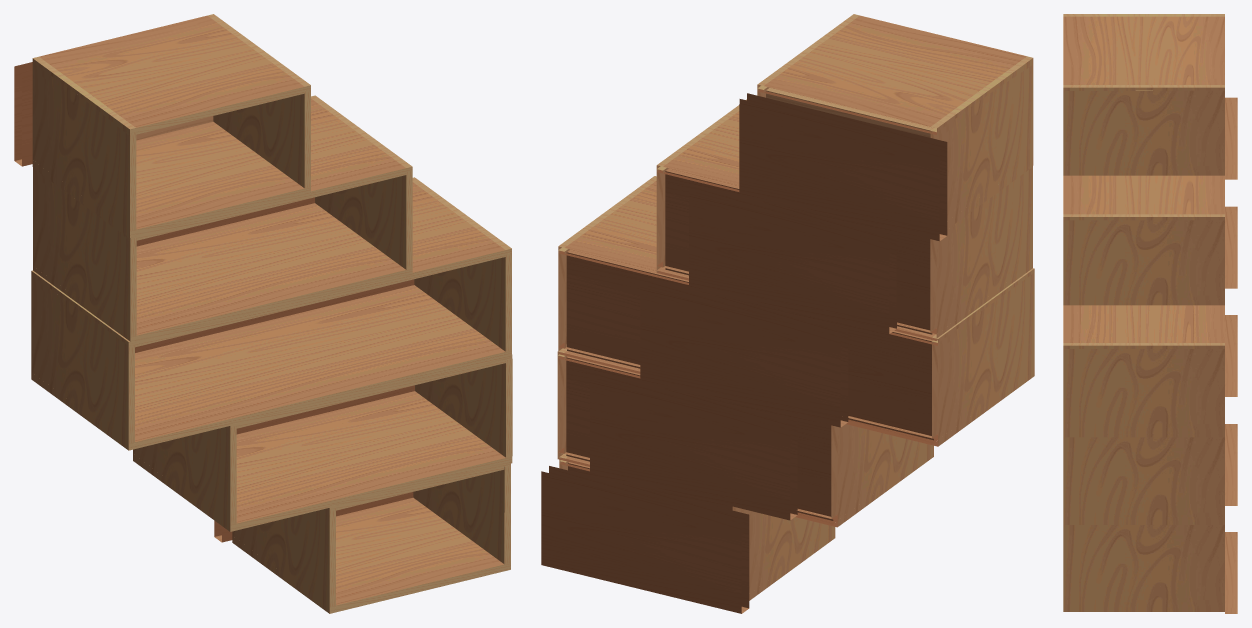
The model's file is layout_wide_5s_zip.fbx.
The picture shows the model from 3 angles, left to right: view 1: azimuth 30°, elevation 25°; view 2: azimuth 150°, elevation 25°; view 3: azimuth 270°, elevation 25°; orthographic projection. The views are drawn at different scales.
Parts seen in each view (by area): view 1: Shelf-BM-00 2, Shelf-BM-00 1, Shelf-BM-00 3, Shelf-TM-00 4, Shelf-BM-00, Shelf-BM-00 4, Shelf-CL-01 4, Shelf-CL-01 2, Shelf-CL-01 3, Shelf-TM-00 2, Shelf-TM-00 3, Shelf-CL-01 1 (+20 smaller); view 2: Shelf-Back-00 (1), Shelf-Back-00 (1) 2, Shelf-Back-00 (1) 4, Shelf-Back-00 (1) 1, Shelf-Back-00 (1) 3, Shelf-Back-00 2, Shelf-TM-00 4, Shelf-CL-01 2, Shelf-CL-01 3, Shelf-CL-01 4, Shelf-Back-00 3, Shelf-Back-00 1 (+15 smaller); view 3: Shelf-CR-01, Shelf-CR-01 1, Shelf-CR-01 2, Shelf-CR-01 3, Shelf-CR-01 4, Shelf-TM-00 4, Shelf-TM-00 3, Shelf-TM-00 2, Shelf-CR-00 1, Shelf-CR-00 (1) 3, Shelf-Back-00 (1) 3, Shelf-Back-00 (1) 4 (+11 smaller).
Part boxes in pixels (x1,y1,x2,y2): Shelf-BM-00 2: (135,285,505,448); Shelf-BM-00 1: (236,391,505,530); Shelf-BM-00 3: (136,203,406,341); Shelf-TM-00 4: (39,15,304,134); Shelf-BM-00: (336,497,504,612); Shelf-BM-00 4: (136,121,304,235); Shelf-CL-01 4: (32,62,136,230); Shelf-CL-01 2: (31,275,134,443); Shelf-CL-01 3: (33,168,136,336); Shelf-TM-00 2: (135,182,505,347); Shelf-TM-00 3: (136,98,406,240); Shelf-CL-01 1: (133,426,236,524); Shelf-Back-00 (1): (541,466,749,613); Shelf-Back-00 (1) 2: (640,279,848,427); Shelf-Back-00 (1) 4: (739,93,947,241); Shelf-Back-00 (1) 1: (590,372,797,520); Shelf-Back-00 (1) 3: (689,186,896,333); Shelf-Back-00 2: (566,249,933,440); Shelf-TM-00 4: (764,15,1026,133); Shelf-CL-01 2: (932,272,1034,439); Shelf-CL-01 3: (930,167,1032,334); Shelf-CL-01 4: (930,65,1033,221); Shelf-Back-00 3: (665,168,932,334); Shelf-Back-00 1: (566,356,833,520); Shelf-CR-01: (1063,525,1224,606); Shelf-CR-01 1: (1063,437,1224,518); Shelf-CR-01 2: (1063,349,1224,430); Shelf-CR-01 3: (1063,220,1224,301); Shelf-CR-01 4: (1063,90,1224,171); Shelf-TM-00 4: (1063,16,1224,84); Shelf-TM-00 3: (1063,175,1224,214); Shelf-TM-00 2: (1063,305,1224,342); Shelf-CR-00 1: (1063,518,1224,524); Shelf-CR-00 (1) 3: (1063,214,1224,220); Shelf-Back-00 (1) 3: (1225,206,1237,288); Shelf-Back-00 (1) 4: (1225,97,1237,179).
Size of the model in its own units: 191 by 242 by 86.3.
